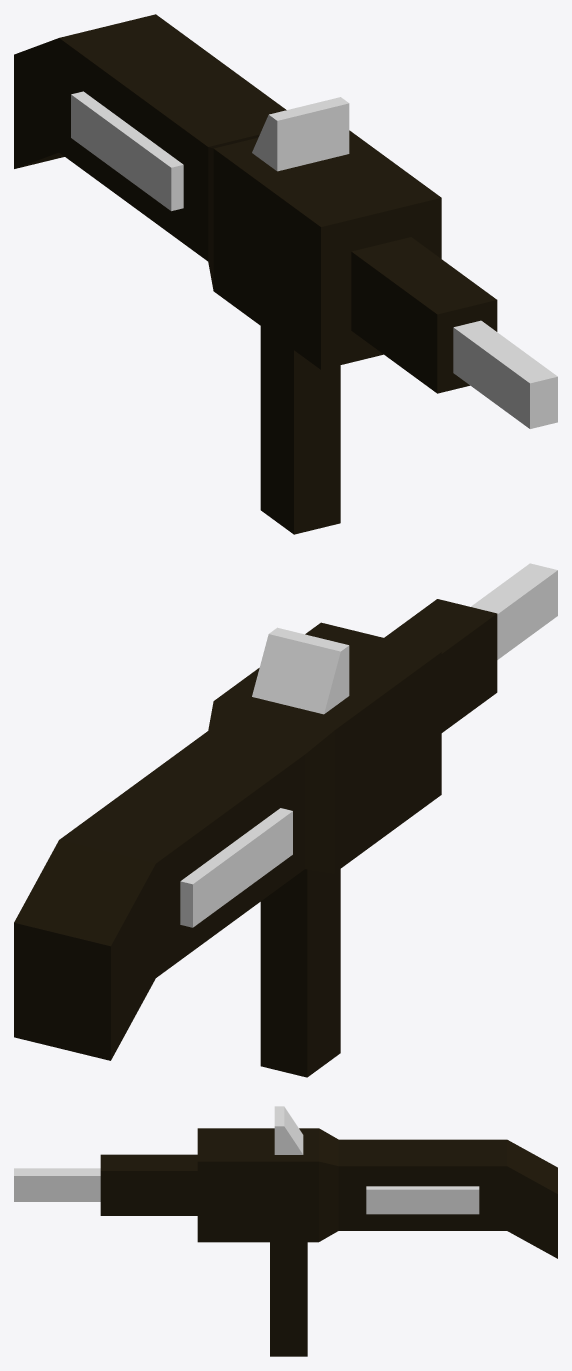
Rendered from Blaster.fbx.
3 views of the same model, one above another, from view 1: azimuth 30°, elevation 25°; view 2: azimuth 150°, elevation 25°; view 3: azimuth 270°, elevation 25° (orthographic). The views are drawn at different scales.
Parts seen in each view (by area): view 1: Cube.004; view 2: Cube.004; view 3: Cube.004.
Boxes of the visible parts, x1,y1,x2,y2 form: Cube.004: (14, 14, 557, 534); Cube.004: (14, 563, 557, 1077); Cube.004: (14, 1106, 557, 1356).
Bounding box in the file's own units: 11.34 × 36.83 × 77.65.
